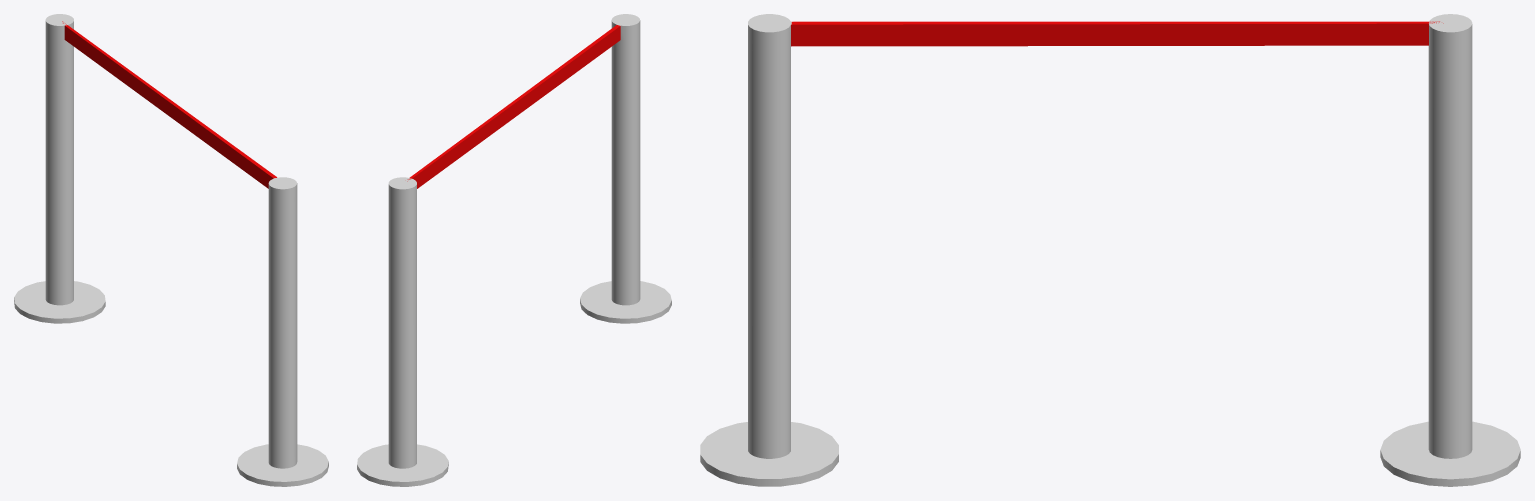
The model's file is SingleBarrier.fbx.
The picture shows the model from 3 angles, left to right: view 1: azimuth 30°, elevation 25°; view 2: azimuth 150°, elevation 25°; view 3: azimuth 270°, elevation 25°; orthographic projection. The views are drawn at different scales.
Visible parts, largest first — view 1: Barrier1.004; view 2: Barrier1.004; view 3: Barrier1.004.
Part boxes in pixels (<box>): Barrier1.004: <box>14,14,328,486</box>; Barrier1.004: <box>357,14,671,486</box>; Barrier1.004: <box>700,14,1520,486</box>.
Size of the model in its own units: 32.33 by 110 by 189.
1 material, 1 textured.
